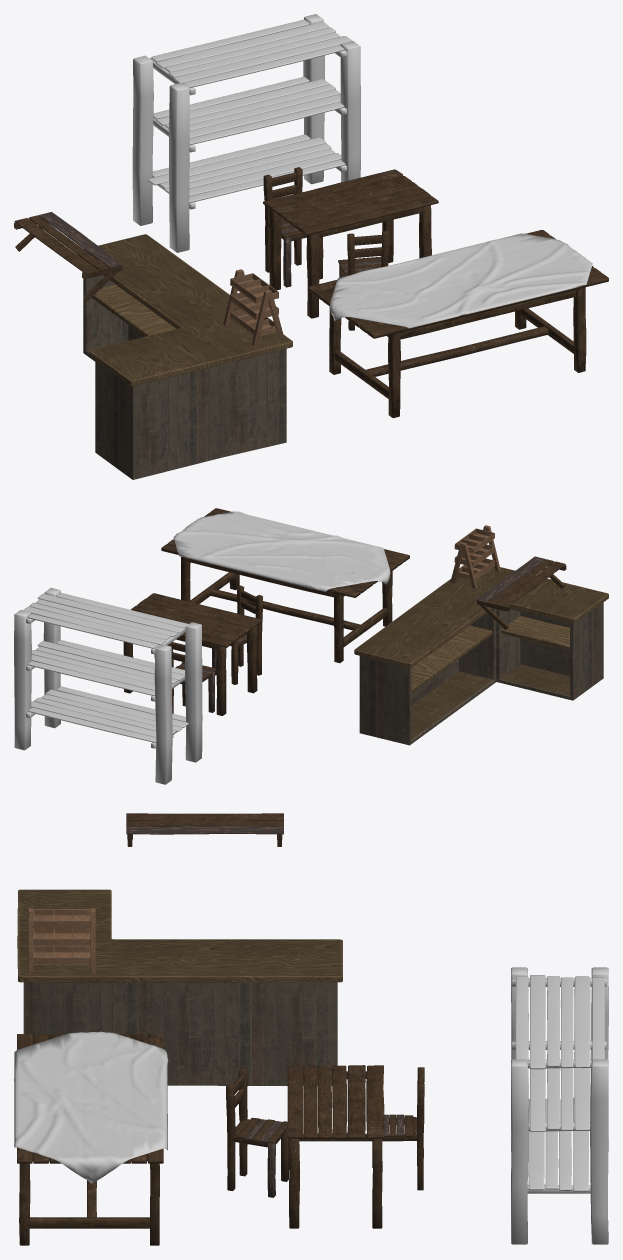
Rendered from assetsMadeira.fbx.
3 renders of one model, top to bottom at view 1: azimuth 30°, elevation 25°; view 2: azimuth 150°, elevation 25°; view 3: azimuth 270°, elevation 25°, orthographic. The views are drawn at different scales.
Parts seen in each view (by area): view 1: Large Mobile Gin Bar, wooden shelf, fabricFtable, smallTable, bigTable, shelfW, MOBILE NATURAL 3-TIER, rustic wooden chair, rustic wooden chair.001; view 2: Large Mobile Gin Bar, wooden shelf, fabricFtable, bigTable, smallTable, shelfW, MOBILE NATURAL 3-TIER, rustic wooden chair.001, rustic wooden chair; view 3: Large Mobile Gin Bar, wooden shelf, fabricFtable, smallTable, bigTable, MOBILE NATURAL 3-TIER, rustic wooden chair.001, shelfW, rustic wooden chair.
Boxes of the visible parts, box(x1,y1,x2,y2) form: Large Mobile Gin Bar: box(78, 234, 292, 479); wooden shelf: box(132, 14, 360, 252); fabricFtable: box(330, 233, 592, 328); smallTable: box(263, 169, 438, 318); bigTable: box(307, 230, 608, 417); shelfW: box(14, 212, 123, 301); MOBILE NATURAL 3-TIER: box(223, 269, 284, 346); rustic wooden chair: box(263, 167, 323, 287); rustic wooden chair.001: box(338, 230, 389, 330); Large Mobile Gin Bar: box(354, 566, 608, 745); wooden shelf: box(14, 587, 202, 784); fabricFtable: box(173, 511, 390, 591); bigTable: box(161, 508, 409, 663); smallTable: box(123, 593, 262, 715); shelfW: box(476, 556, 566, 630); MOBILE NATURAL 3-TIER: box(450, 525, 500, 588); rustic wooden chair.001: box(212, 585, 262, 684); rustic wooden chair: box(168, 642, 216, 713); Large Mobile Gin Bar: box(17, 889, 342, 1085); wooden shelf: box(511, 967, 608, 1244); fabricFtable: box(14, 1031, 168, 1183); smallTable: box(287, 1065, 384, 1228); bigTable: box(17, 1034, 163, 1245); MOBILE NATURAL 3-TIER: box(28, 908, 95, 973); rustic wooden chair.001: box(226, 1068, 289, 1197); shelfW: box(126, 813, 283, 846); rustic wooden chair: box(382, 1067, 424, 1190).
Size of what is drawn, in the model's own units: 475 by 163 by 460.
